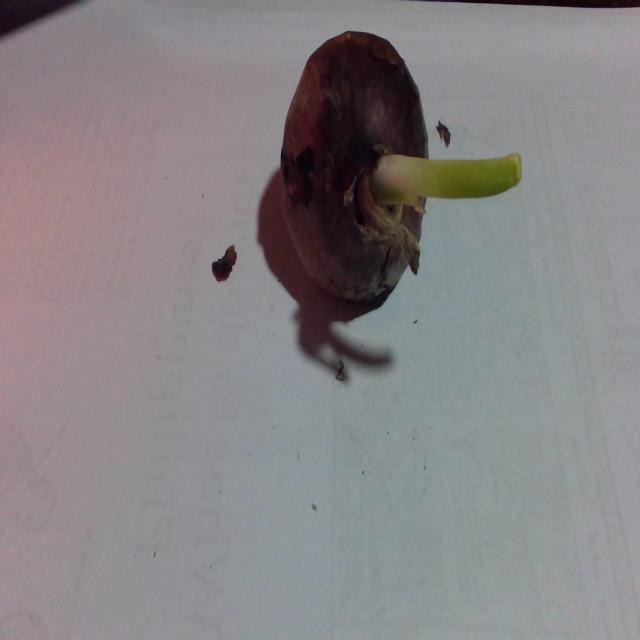onion: (273, 18, 438, 311)
